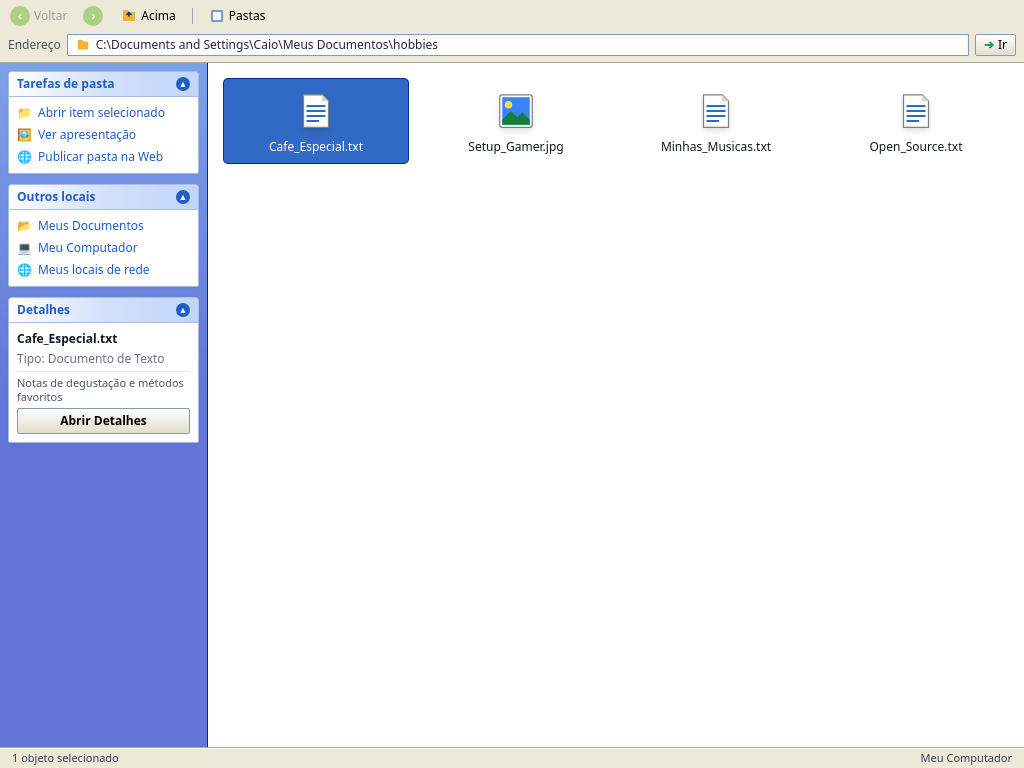
Test: ExplorerFolderApp - Hobbies secret games filtering › When secret games are locked (isSecretUnlocked: false) › displays filtered count in status bar when no item is selected
Deselect by clicking grid background
Step 1. Click the element with test id "explorer-items-grid" → (616, 405), box x1=208 y1=63 x2=1023 y2=747
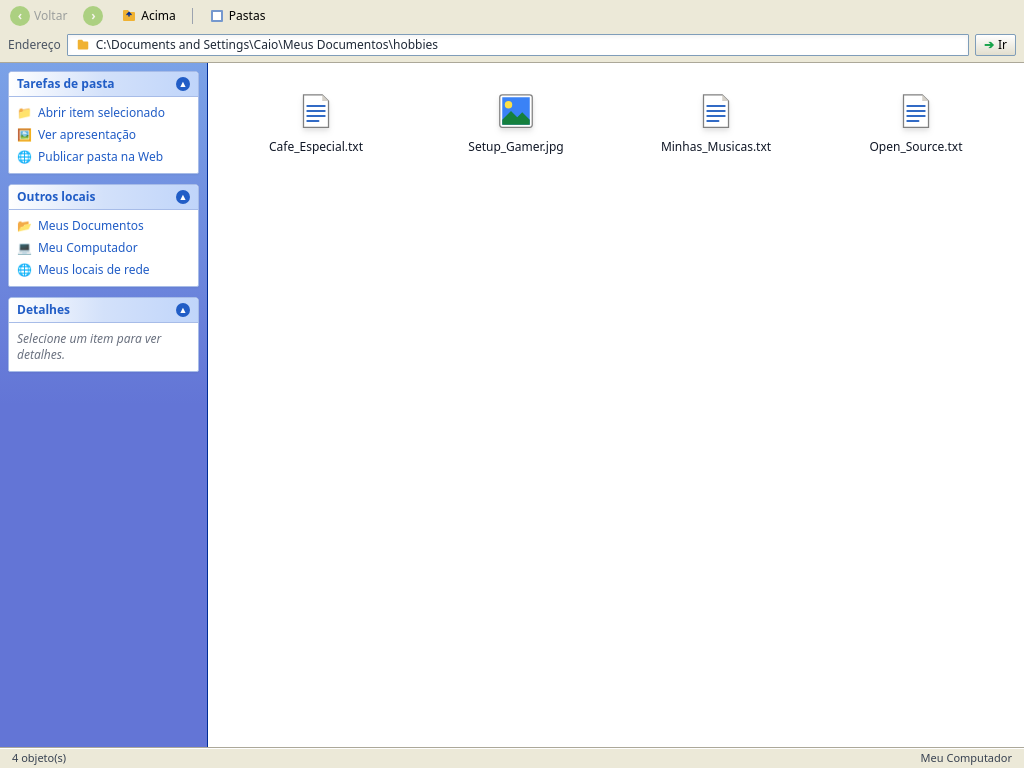
Expected: the element with test id "explorer-statusbar" shows "4 objeto(s)", x1=12 y1=750 x2=66 y2=765
